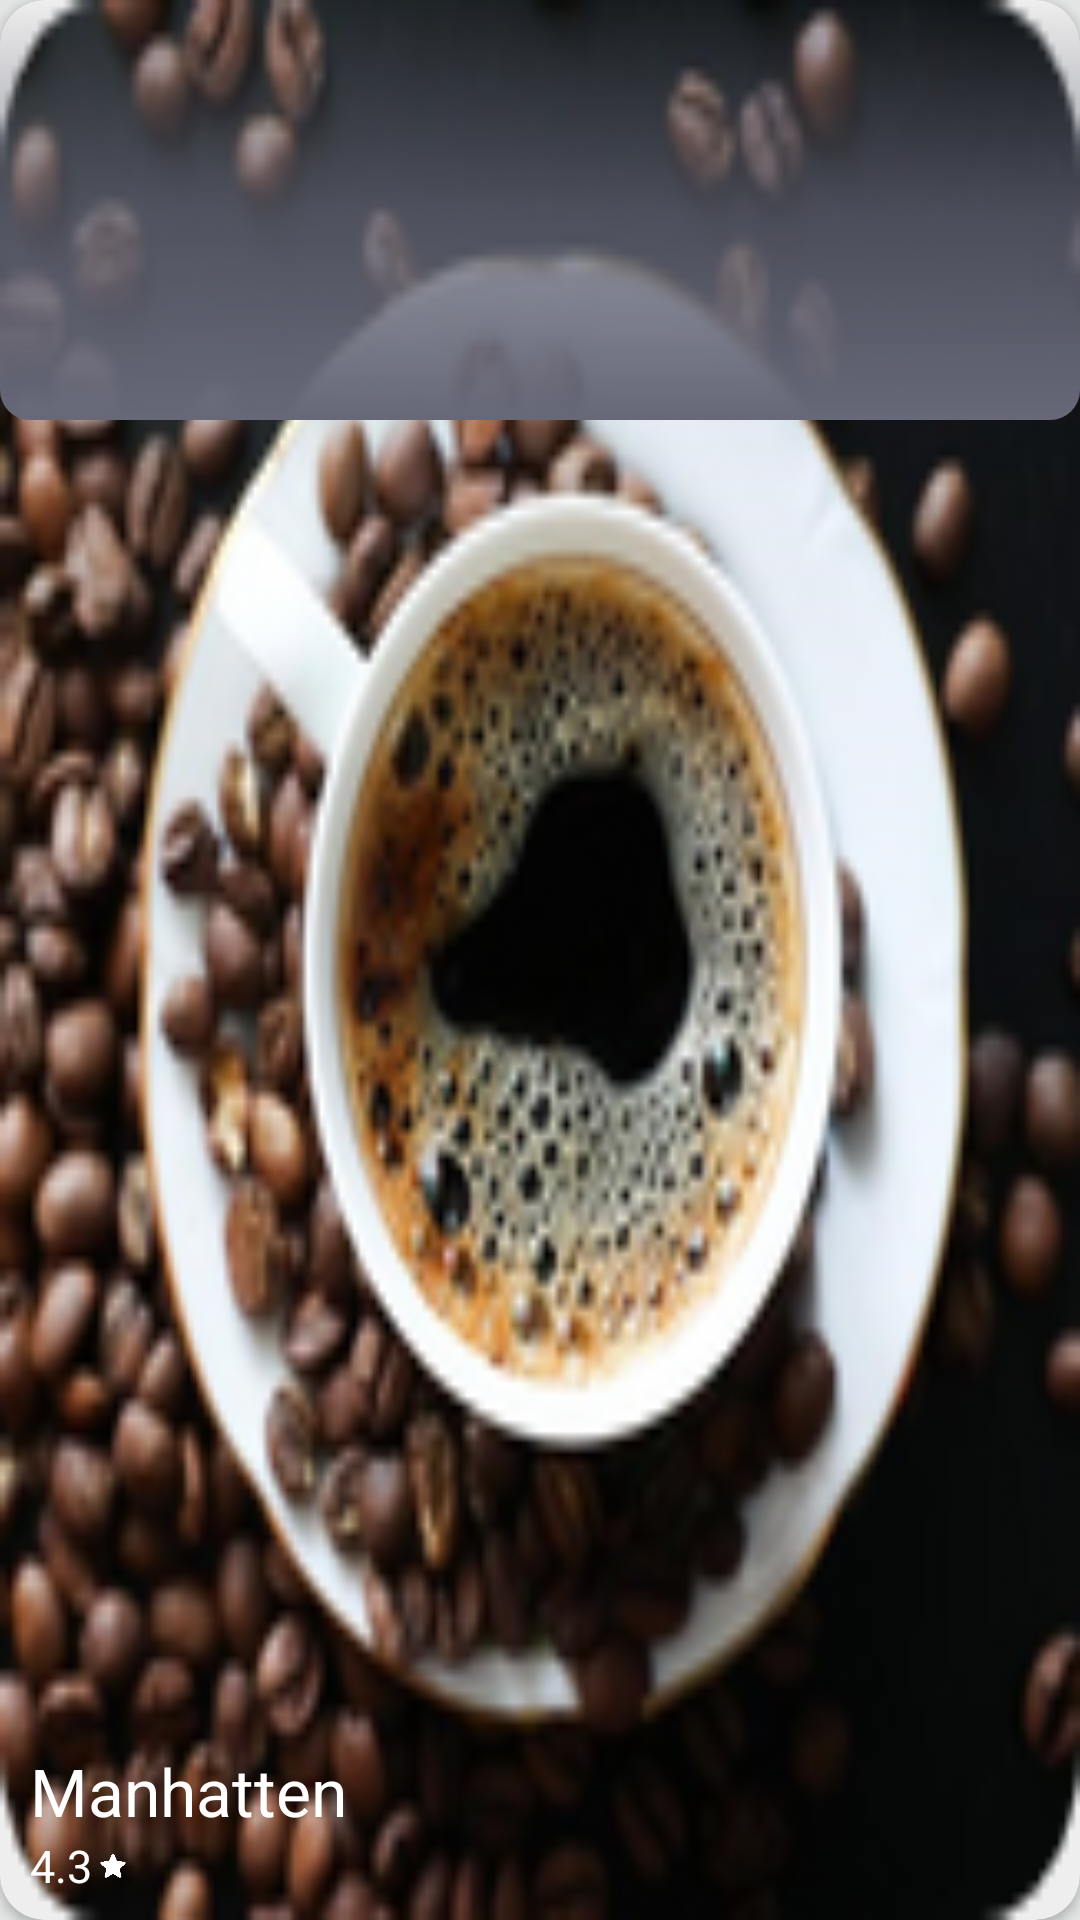

Screen size 1080×1920. Icon name, then its center in pixels as point (x, y):
whitestar: point (113, 1866)
